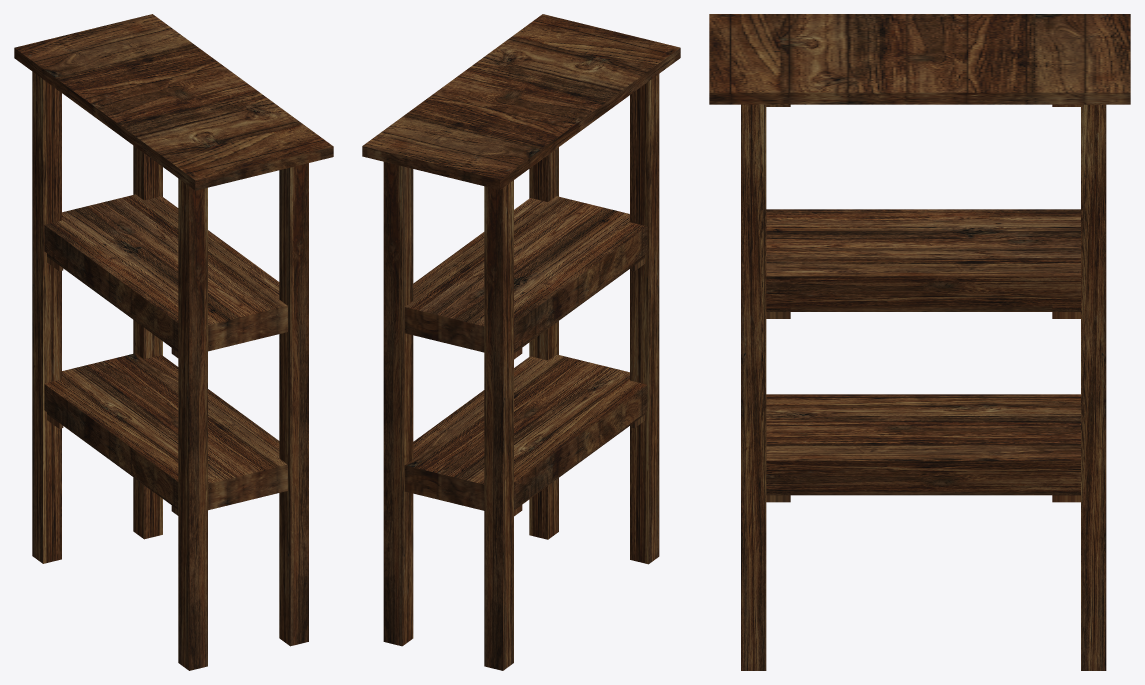
The model's file is shelves.fbx.
3 views of the same model, side by side, from view 1: azimuth 30°, elevation 25°; view 2: azimuth 150°, elevation 25°; view 3: azimuth 270°, elevation 25° (orthographic). The views are drawn at different scales.
Visible parts, largest first — view 1: Cube.003, Cube.004, Cube.005, Cube.006, Cube.008; view 2: Cube.003, Cube.004, Cube.005, Cube.006; view 3: Cube.004, Cube.005, Cube.003, Cube.006, Cube.008.
Part boxes in pixels (<box>): Cube.003: <box>32,71,308,670</box>; Cube.004: <box>44,194,287,510</box>; Cube.005: <box>14,14,333,190</box>; Cube.006: <box>47,253,178,357</box>; Cube.008: <box>47,412,178,515</box>; Cube.003: <box>383,74,659,670</box>; Cube.004: <box>404,196,647,510</box>; Cube.005: <box>362,14,680,189</box>; Cube.006: <box>514,255,644,359</box>; Cube.004: <box>766,209,1080,491</box>; Cube.005: <box>709,14,1130,104</box>; Cube.003: <box>741,104,1106,670</box>; Cube.006: <box>766,306,1080,318</box>; Cube.008: <box>766,491,1080,502</box>.
Size of the model in its own units: 88.24 by 306 by 200.
Materials: 3 (3 with a texture image).
